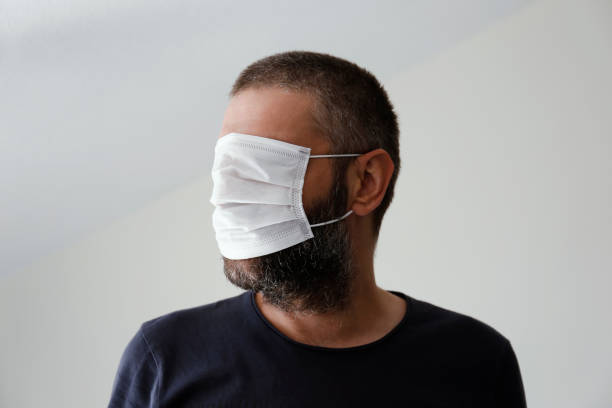with_incorrect_mask: (220, 74, 373, 282)
